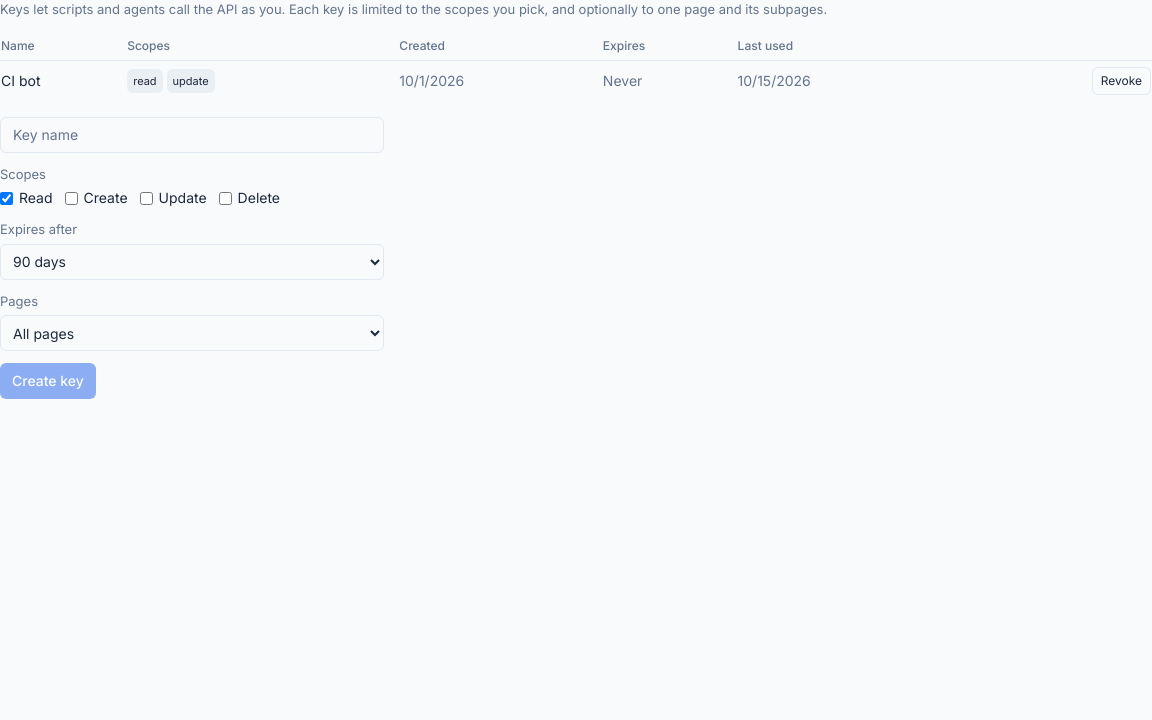
it: ApiKeysSection › posts name, scopes and expires_in_days, then reveals the key once without caching it
This screenshot has width=1152, height=720.
Check: the row with test id "api-key-row" is shown, box x1=0 y1=60 x2=1151 y2=100
Check: the checkbox with test id "api-key-scope-read" is checked, box x1=0 y1=192 x2=13 y2=204
Type " deploy " into the field with test id "api-key-name".
click(192, 134); type(" deploy ")  # box x1=0 y1=116 x2=384 y2=152
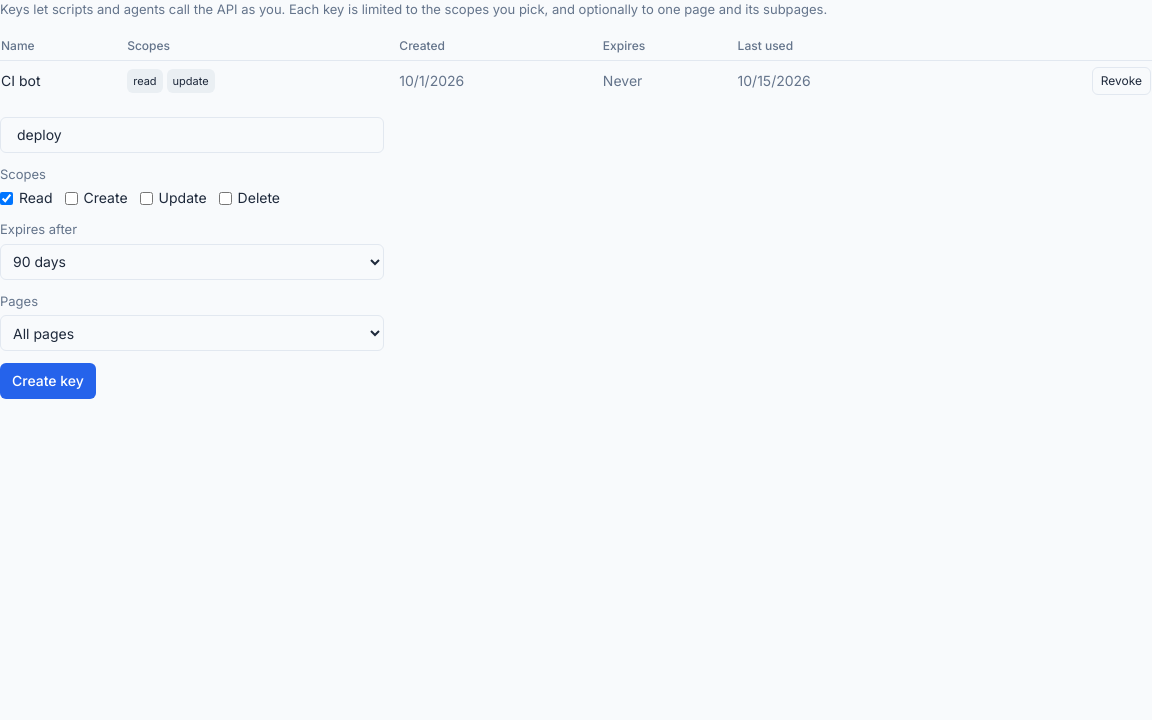
Click the checkbox with test id "api-key-scope-delete".
click(225, 198)  # box x1=219 y1=192 x2=232 y2=204
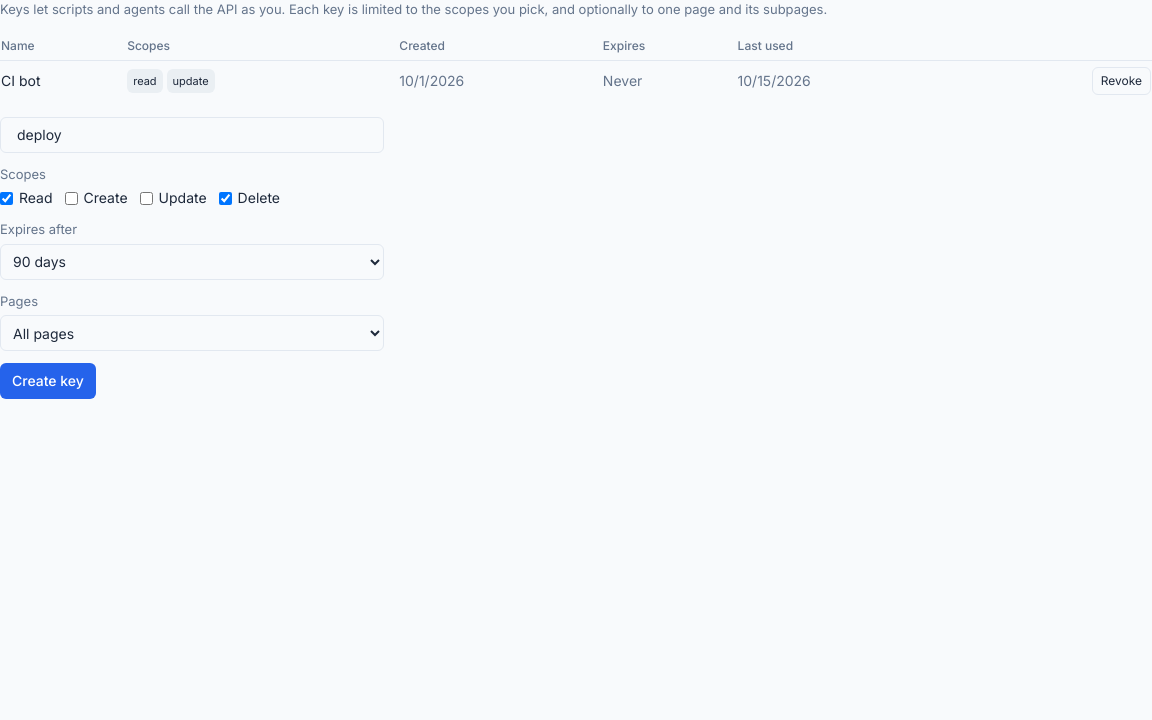
Select "Never" in the dropdown with test id "api-key-expiry" at (192, 262), box x1=0 y1=244 x2=384 y2=280
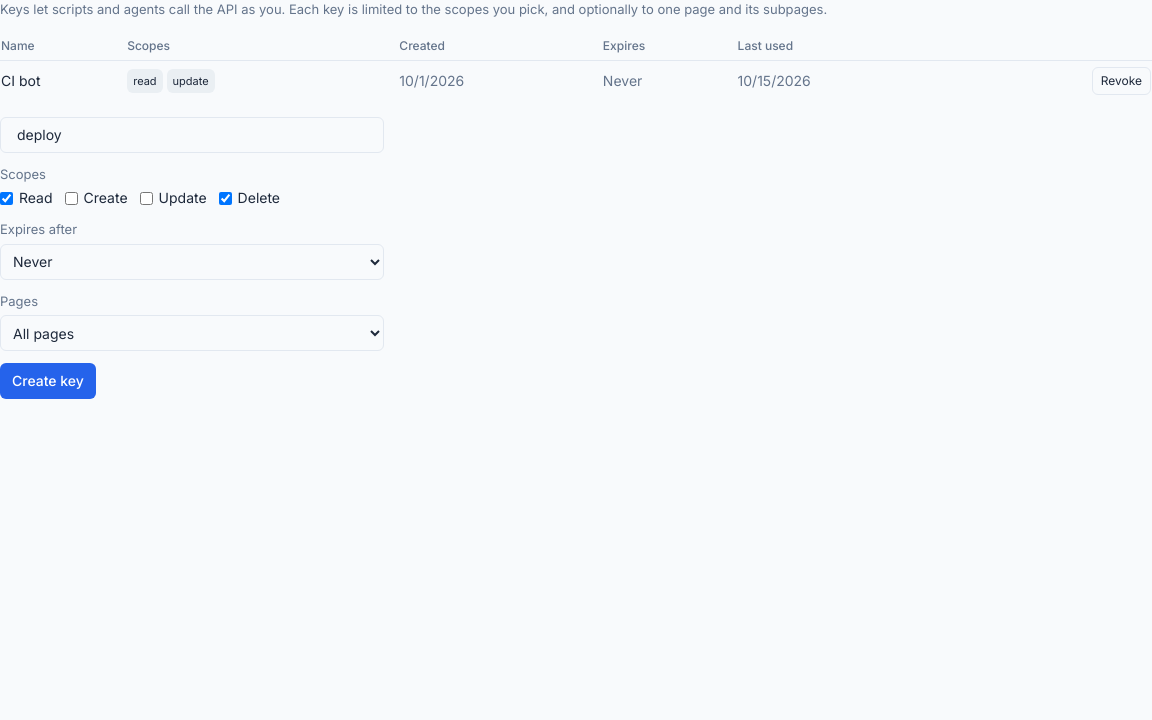
Click the button with test id "api-key-submit".
click(48, 381)  # box x1=0 y1=363 x2=96 y2=399
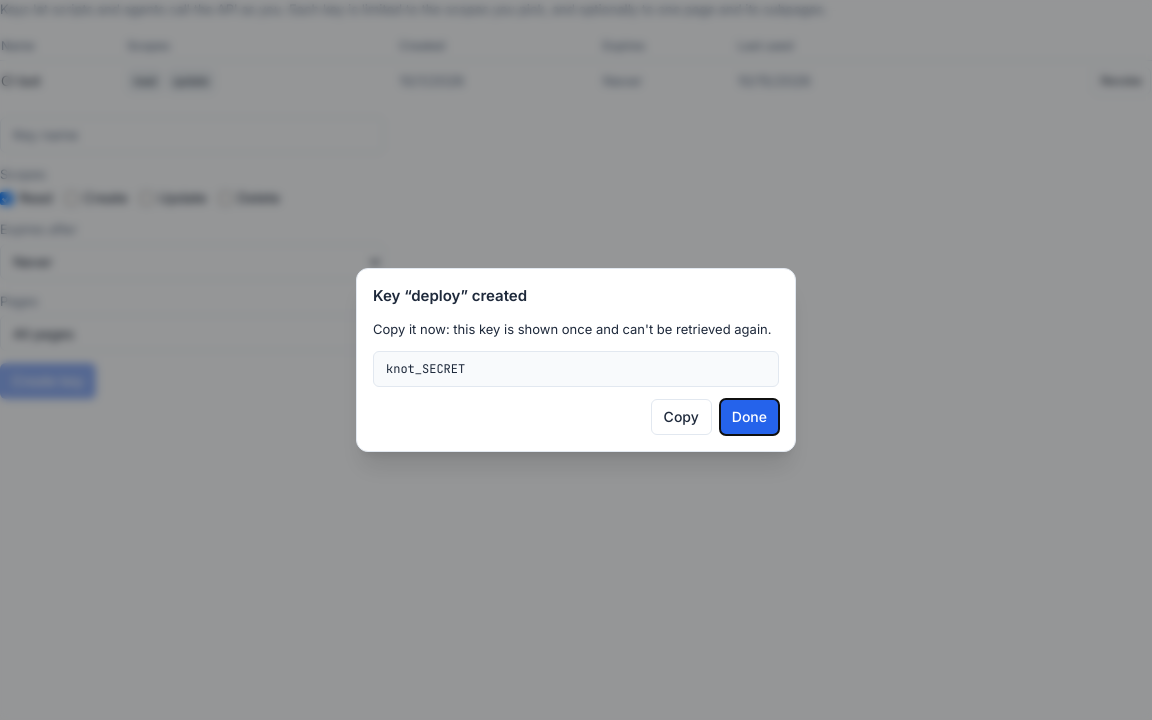
Check: the field showing "knot_SECRET" is shown, box x1=373 y1=351 x2=779 y2=387
Check: the dialog with test id "api-key-reveal" shows "shown once", box x1=373 y1=320 x2=772 y2=336
